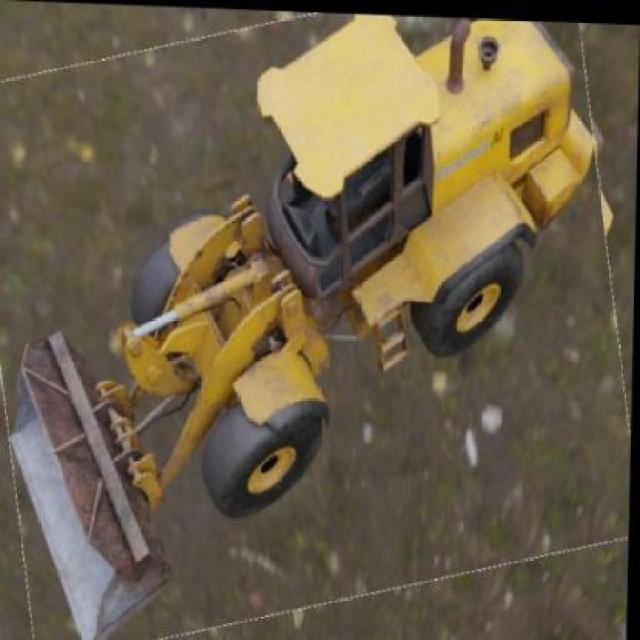buldozerpayloadergrader: (6, 14, 591, 640)
